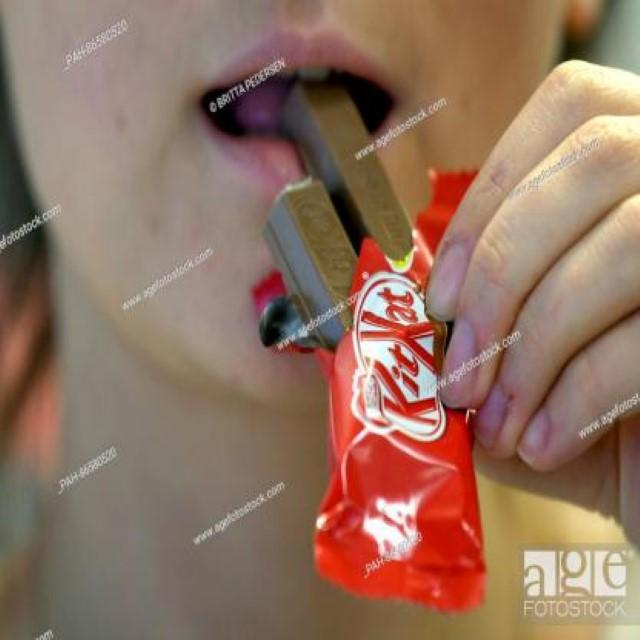kitkat_chocolate: (283, 270, 560, 610)
